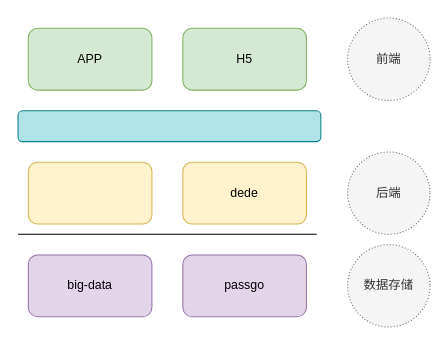
This 448x345 diagram has some shape labels left out. The shapes that lost their labels are listed below. From the top down, each one's centre as x and y in pixels, then its label:
At point (169, 126): "GW".
At point (89, 192): "portal".
